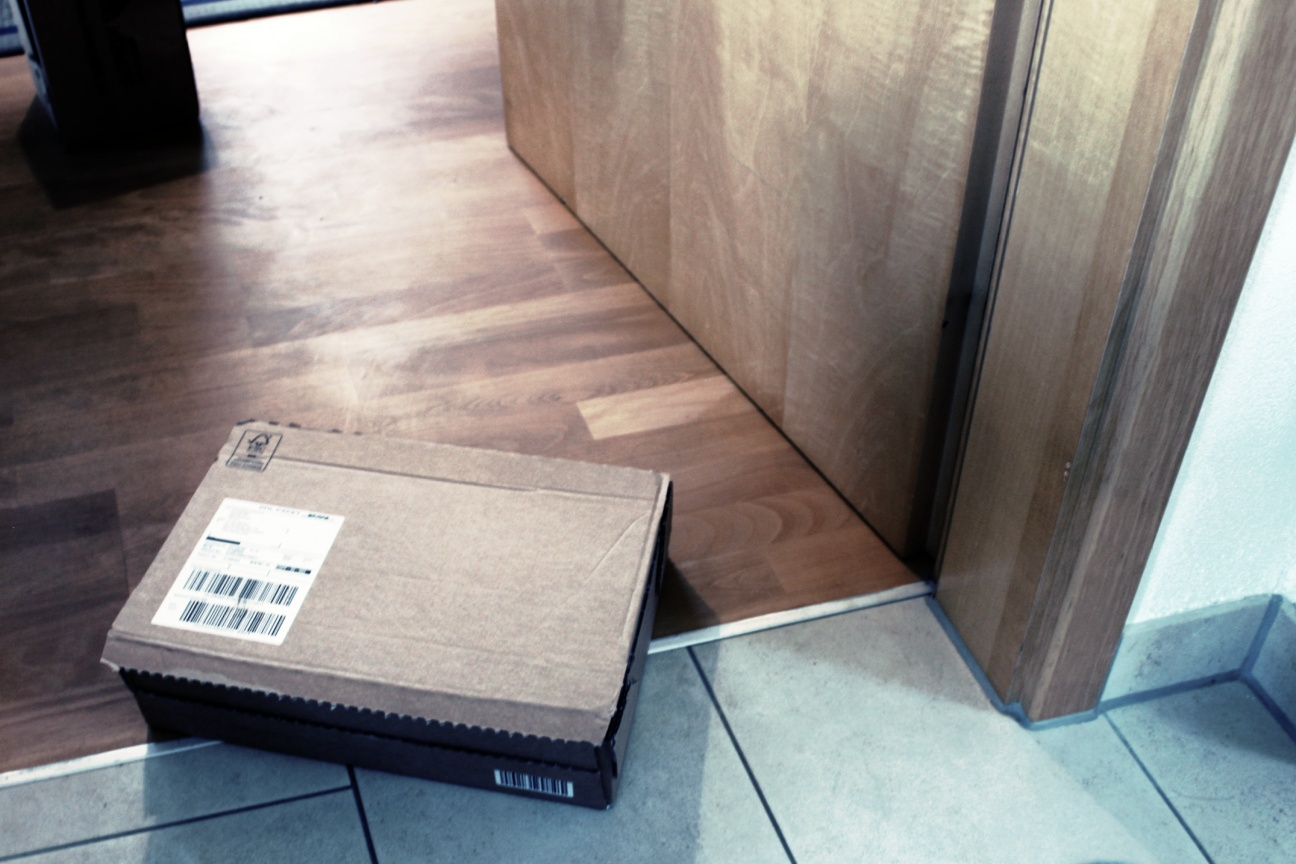good-parcel: (93, 418, 681, 818)
